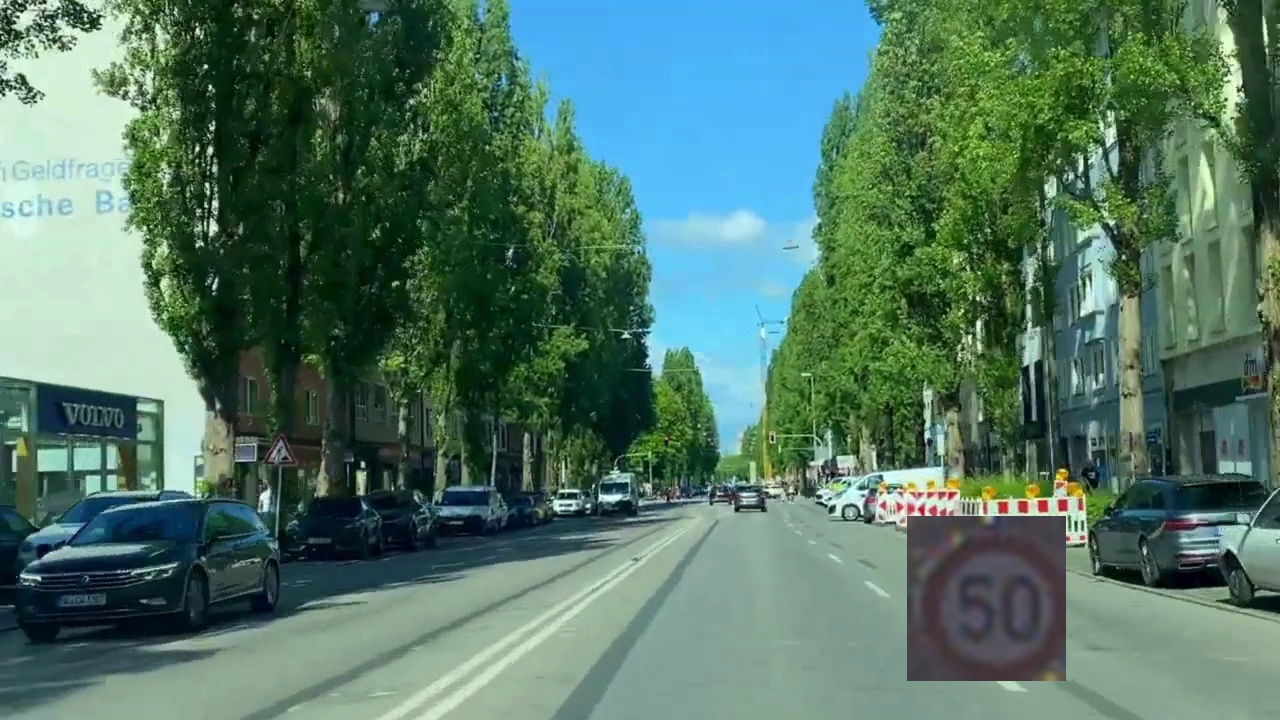Speed 50: (907, 516, 1066, 681)
